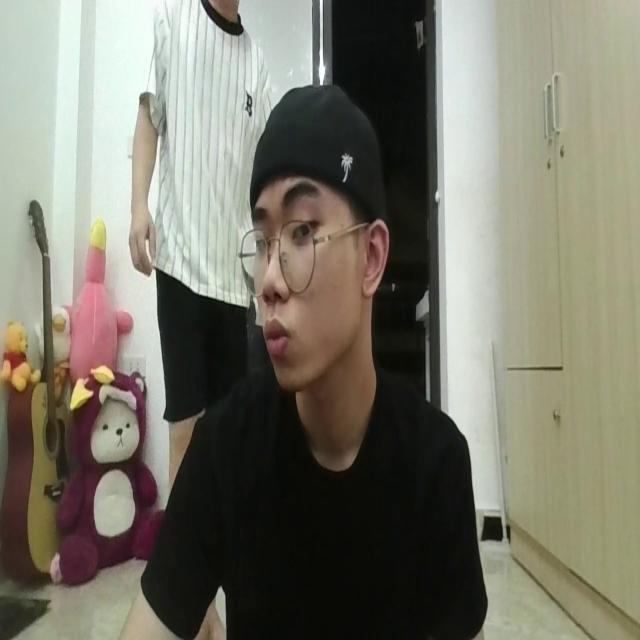extra_person: (128, 0, 260, 429)
student: (131, 77, 479, 640)
